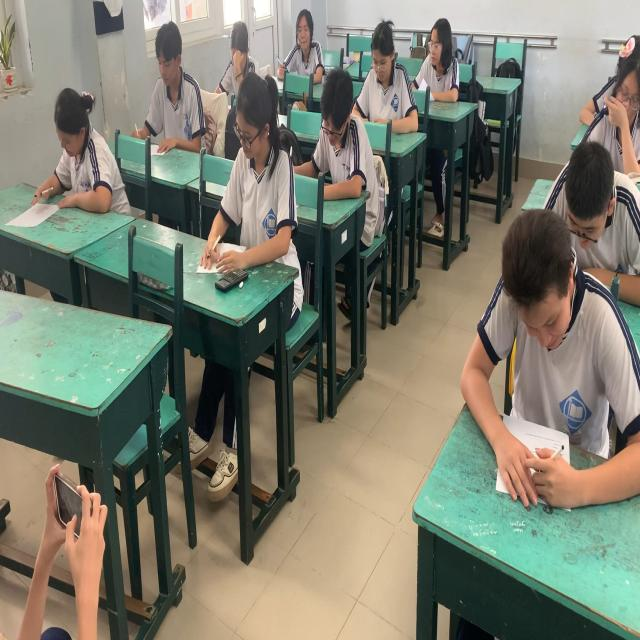not_cheating: (469, 220, 617, 520), (30, 78, 134, 222), (226, 88, 304, 254), (123, 30, 214, 150), (545, 157, 621, 247), (314, 67, 364, 192), (364, 12, 419, 125), (274, 5, 329, 88), (415, 12, 462, 108), (601, 43, 640, 150), (216, 26, 263, 84)
